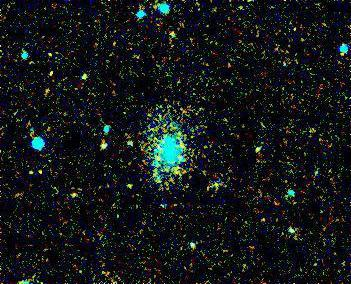star: (114, 171, 144, 201)
